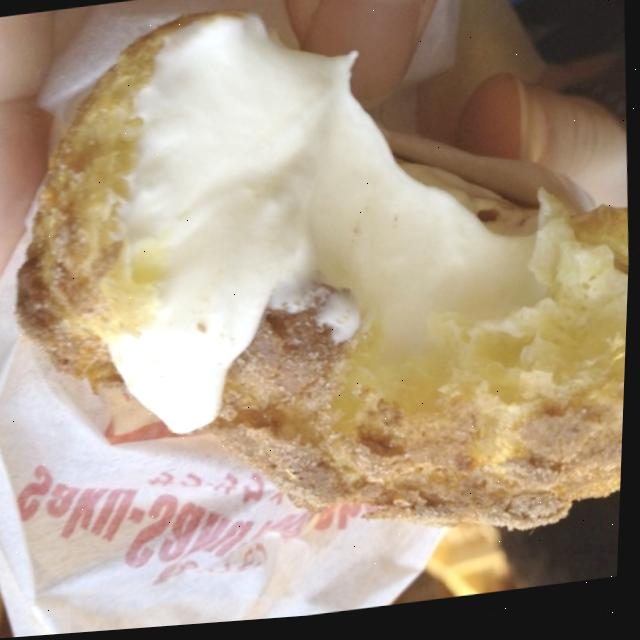炸货点心: (17, 0, 639, 612)
蛋糕甜品: (17, 0, 639, 612)
